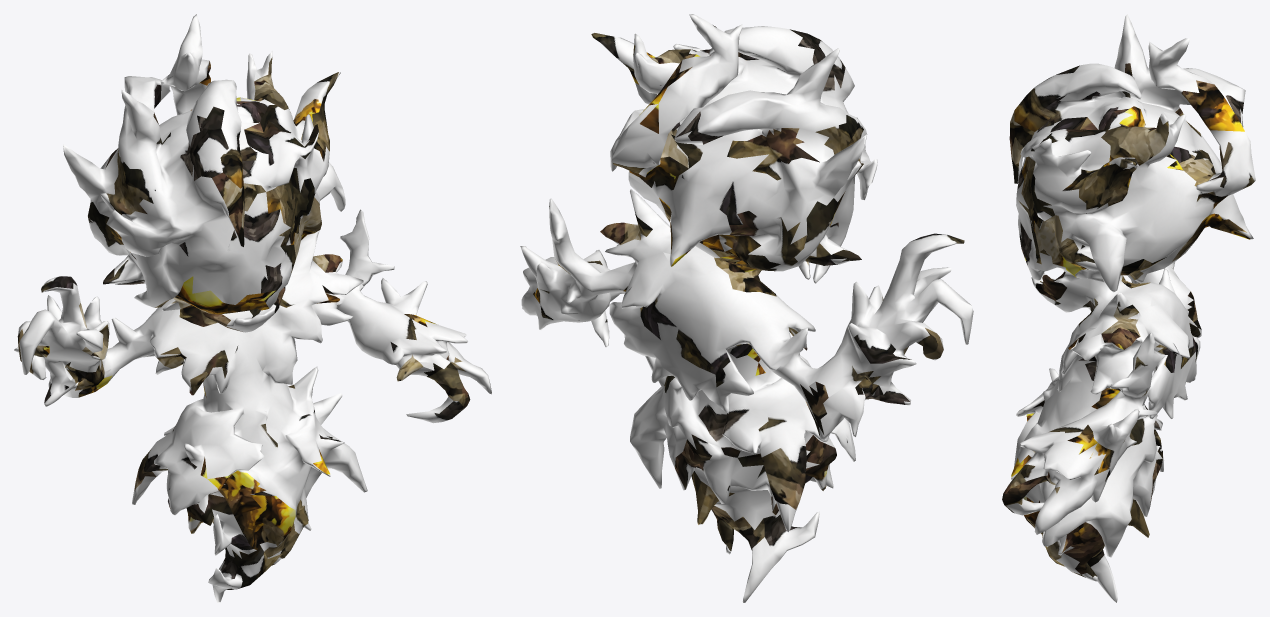
The model's file is gravewood_ent_gold_10k.fbx.
3 views of the same model, side by side, from view 1: azimuth 30°, elevation 25°; view 2: azimuth 150°, elevation 25°; view 3: azimuth 270°, elevation 25° (orthographic). The views are drawn at different scales.
Visible parts, largest first — view 1: gravewood_ent_gold_decimated; view 2: gravewood_ent_gold_decimated; view 3: gravewood_ent_gold_decimated.
Part boxes in pixels (x1,y1,x2,y2): gravewood_ent_gold_decimated: (14,14,491,602); gravewood_ent_gold_decimated: (520,14,973,602); gravewood_ent_gold_decimated: (1002,14,1255,602).
Size of the model in its own units: 1.55 by 1.9 by 0.7661.
